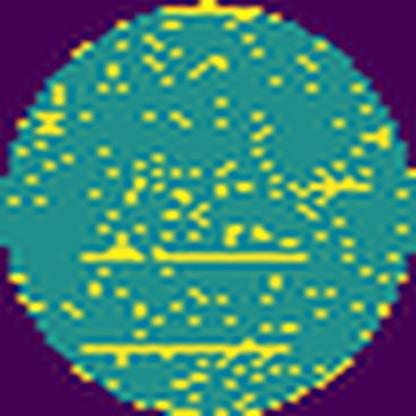Scratch: (76, 230, 314, 271), (77, 334, 295, 372)
